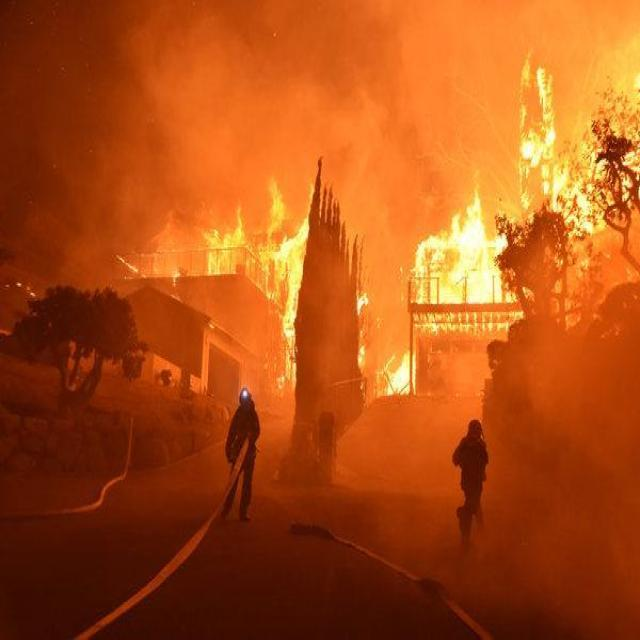Fire: (354, 177, 519, 410), (514, 34, 640, 258), (182, 171, 316, 380)
Smoke: (515, 314, 640, 635)
